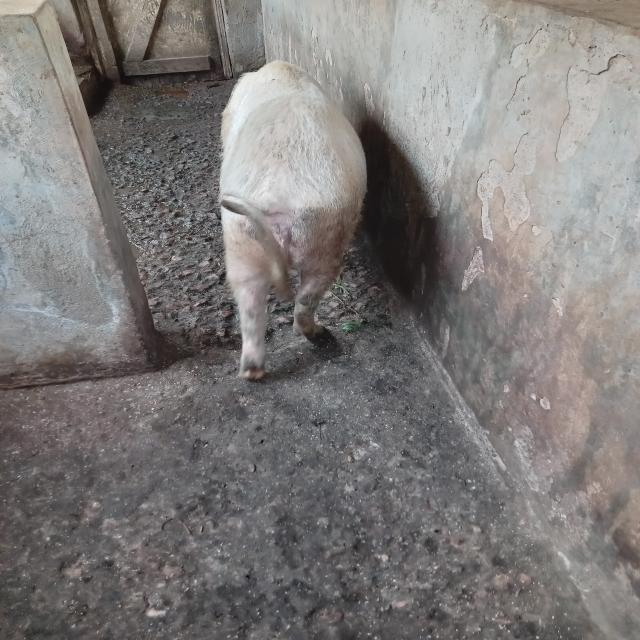pig: (169, 28, 451, 419)
